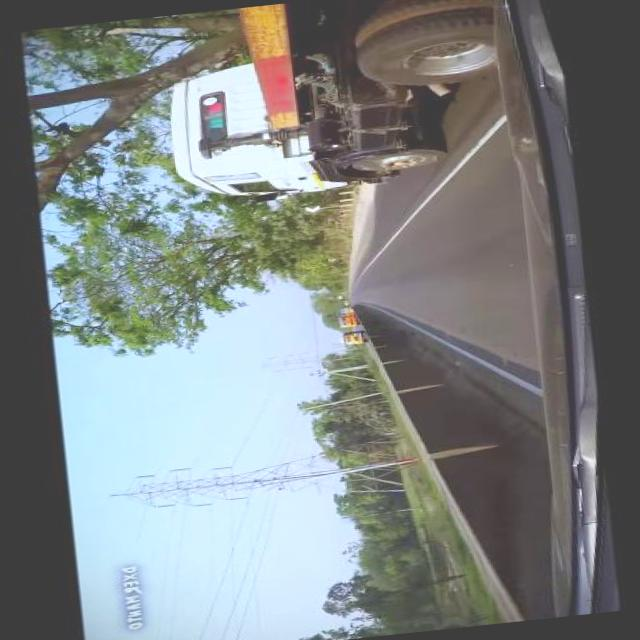truck: (158, 32, 503, 211), (339, 326, 369, 347), (336, 309, 360, 325)
